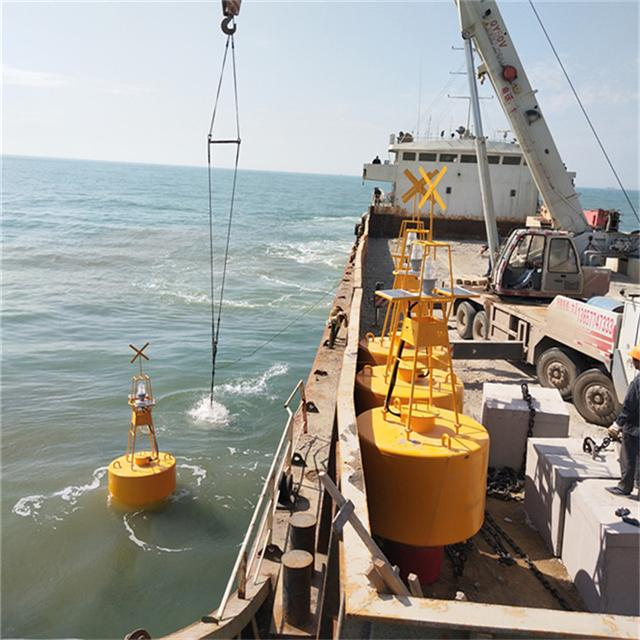buoy: (105, 338, 187, 508)
